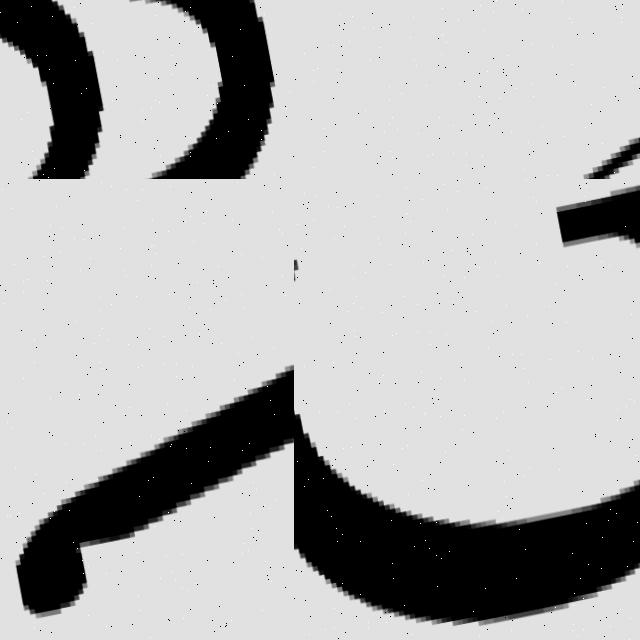6: (0, 0, 294, 179)
C: (294, 395, 640, 624)
J: (0, 266, 294, 625)
V: (294, 23, 640, 179)
